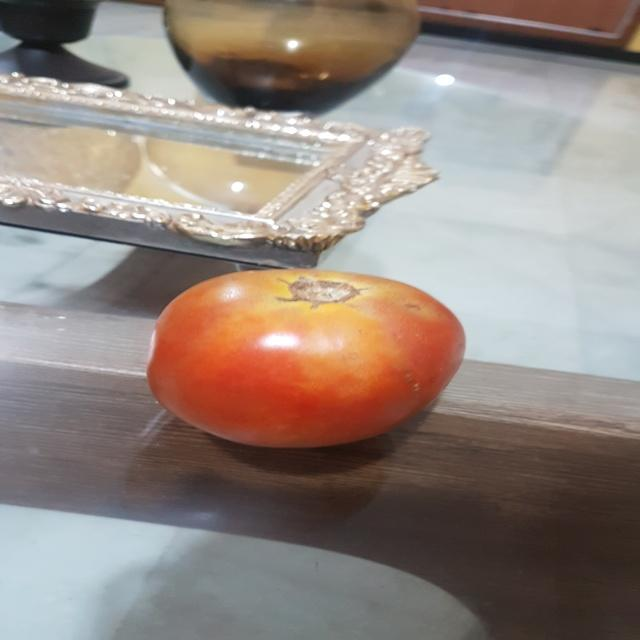tomato: (134, 254, 476, 460)
